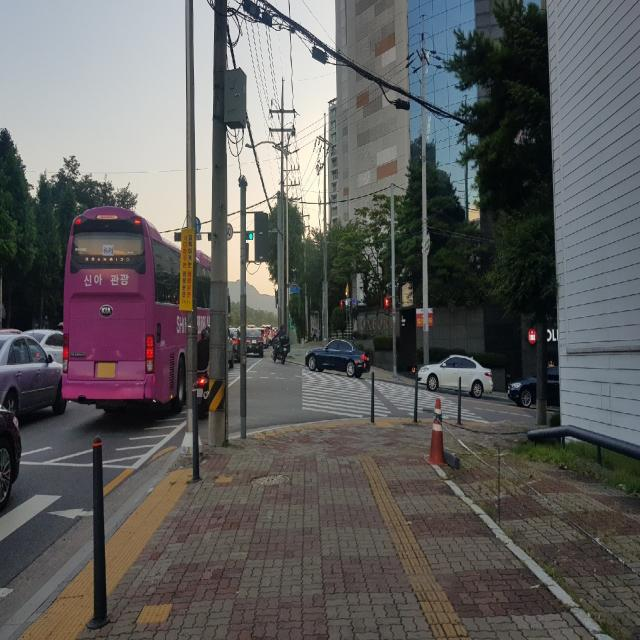횡단보도: (302, 366, 490, 423)
